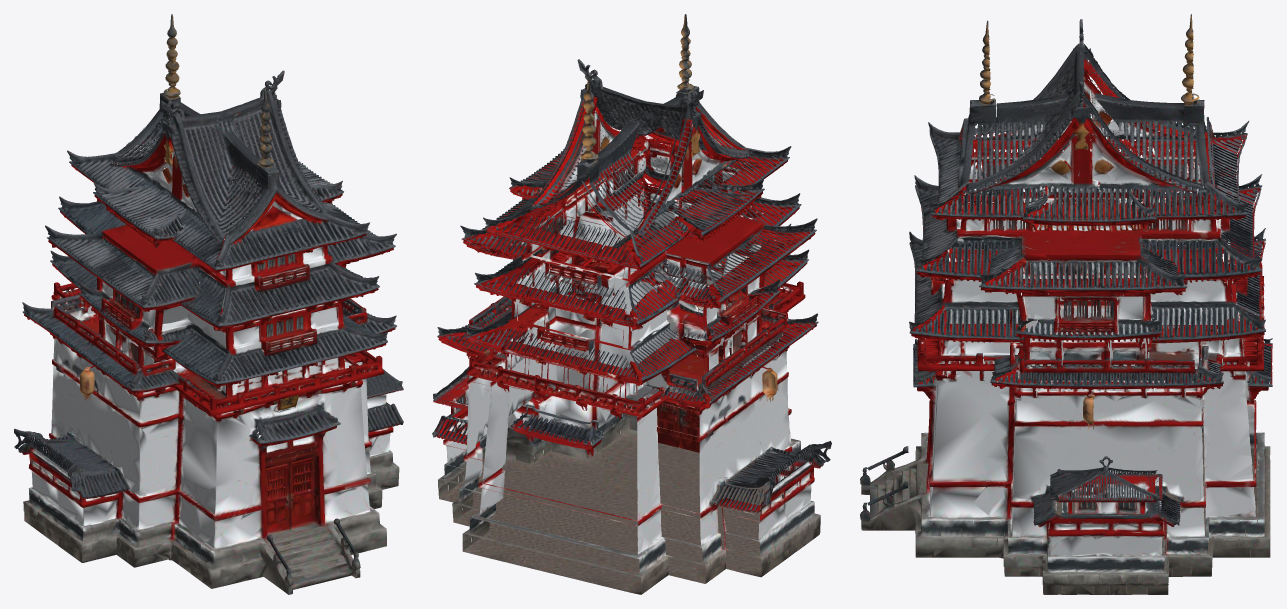
The model's file is temple_block.glb.
3 views of the same model, side by side, from view 1: azimuth 30°, elevation 25°; view 2: azimuth 150°, elevation 25°; view 3: azimuth 270°, elevation 25° (orthographic). The views are drawn at different scales.
Size of the model in its own units: 1.46 by 1.89 by 1.42.
Materials: 1 (1 with a texture image).
